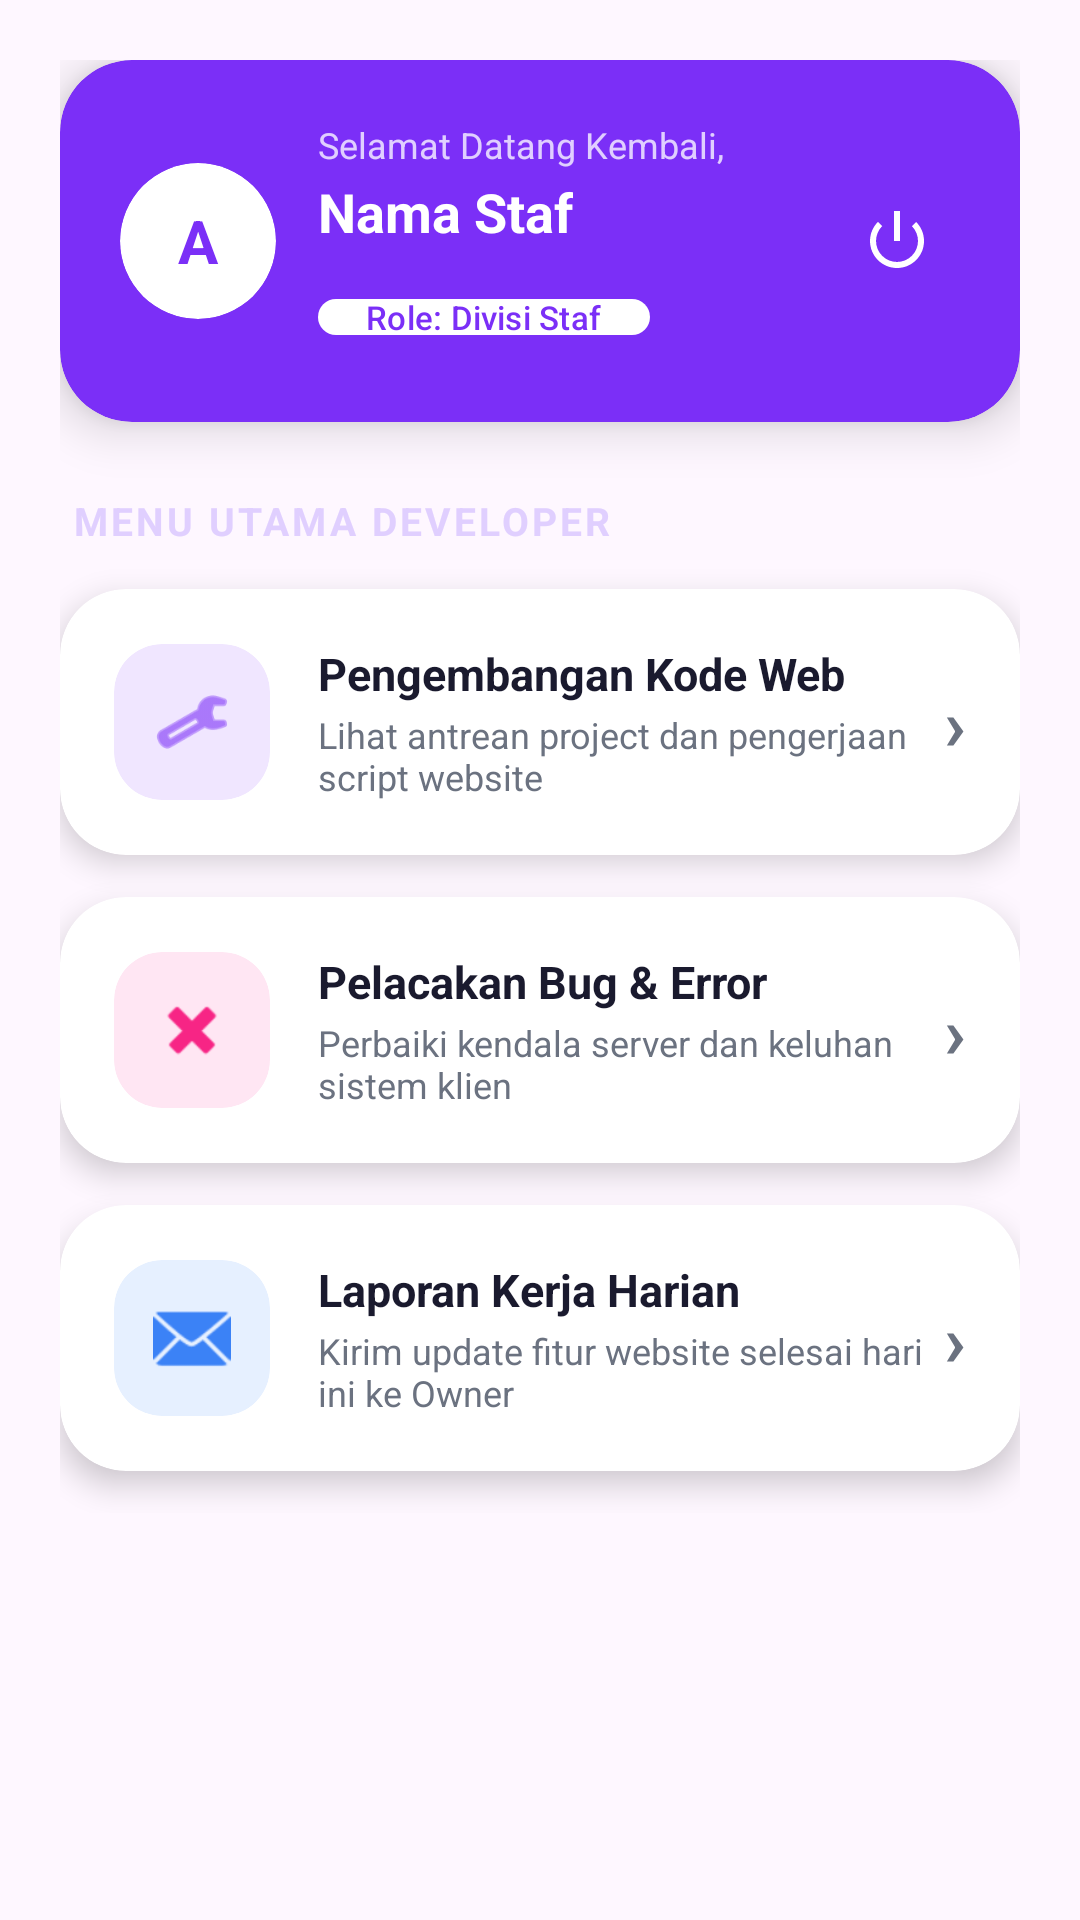

Point at icon controls on the screen. Image size 1080 x 1920, points as (x=x, y=y).
delete: (x=192, y=1030)
email: (x=192, y=1338)
manage: (x=192, y=722)
